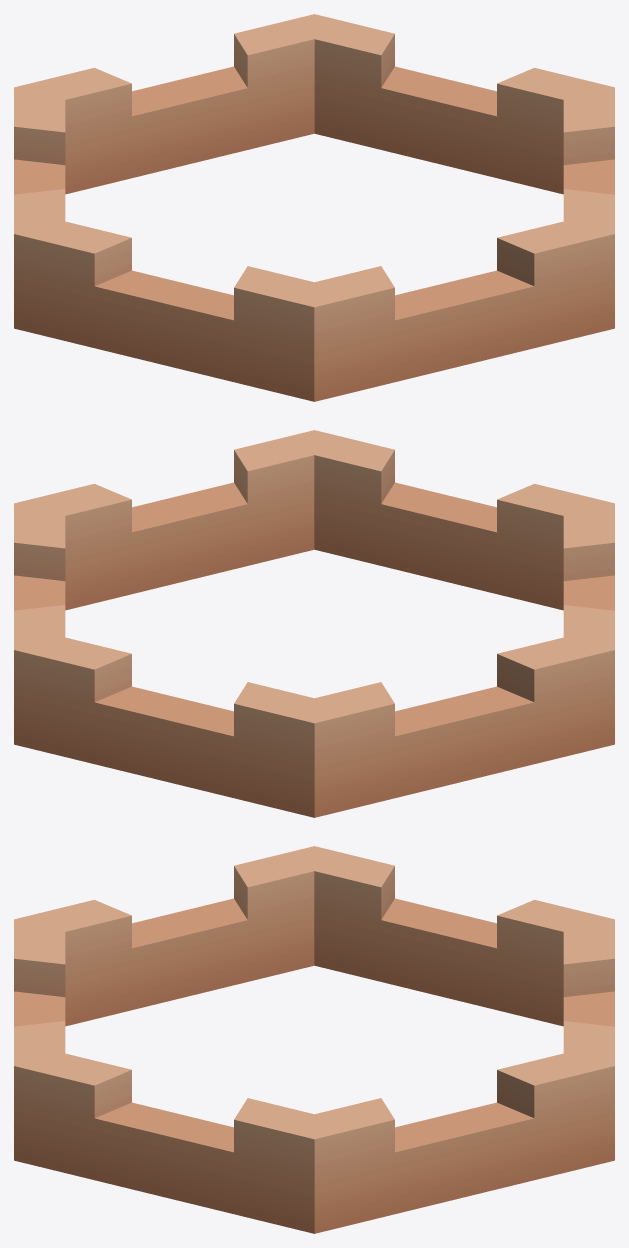
Rendered from p-castle-tower-hexagon-top.glb.
The picture shows the model from 3 angles, top to bottom: view 1: azimuth 30°, elevation 25°; view 2: azimuth 150°, elevation 25°; view 3: azimuth 270°, elevation 25°; orthographic projection.
Parts seen in each view (by area): view 1: tower-hexagon-top; view 2: tower-hexagon-top; view 3: tower-hexagon-top.
Boxes of the visible parts, x1=… form: tower-hexagon-top: x1=14, y1=14, x2=614, y2=401; tower-hexagon-top: x1=14, y1=430, x2=614, y2=817; tower-hexagon-top: x1=14, y1=846, x2=614, y2=1233.
Bounding box in the file's own units: 0.864 × 0.1299 × 0.7483.
1 material, 1 textured.
